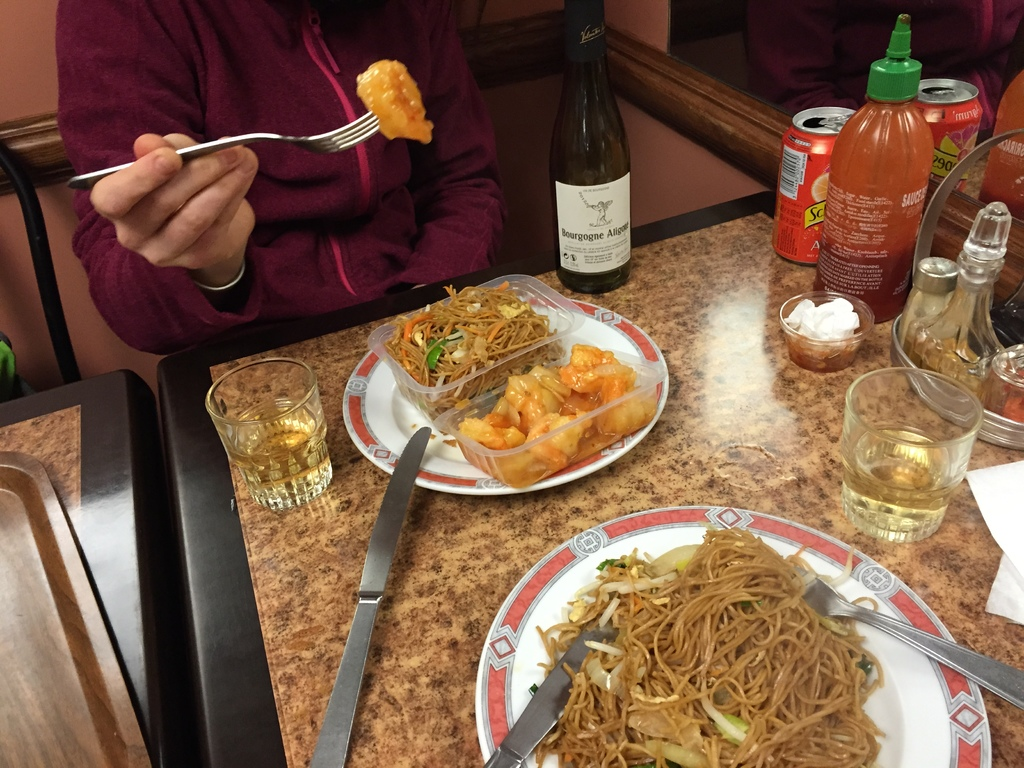pasta: (533, 530, 877, 767), (394, 296, 596, 419)
